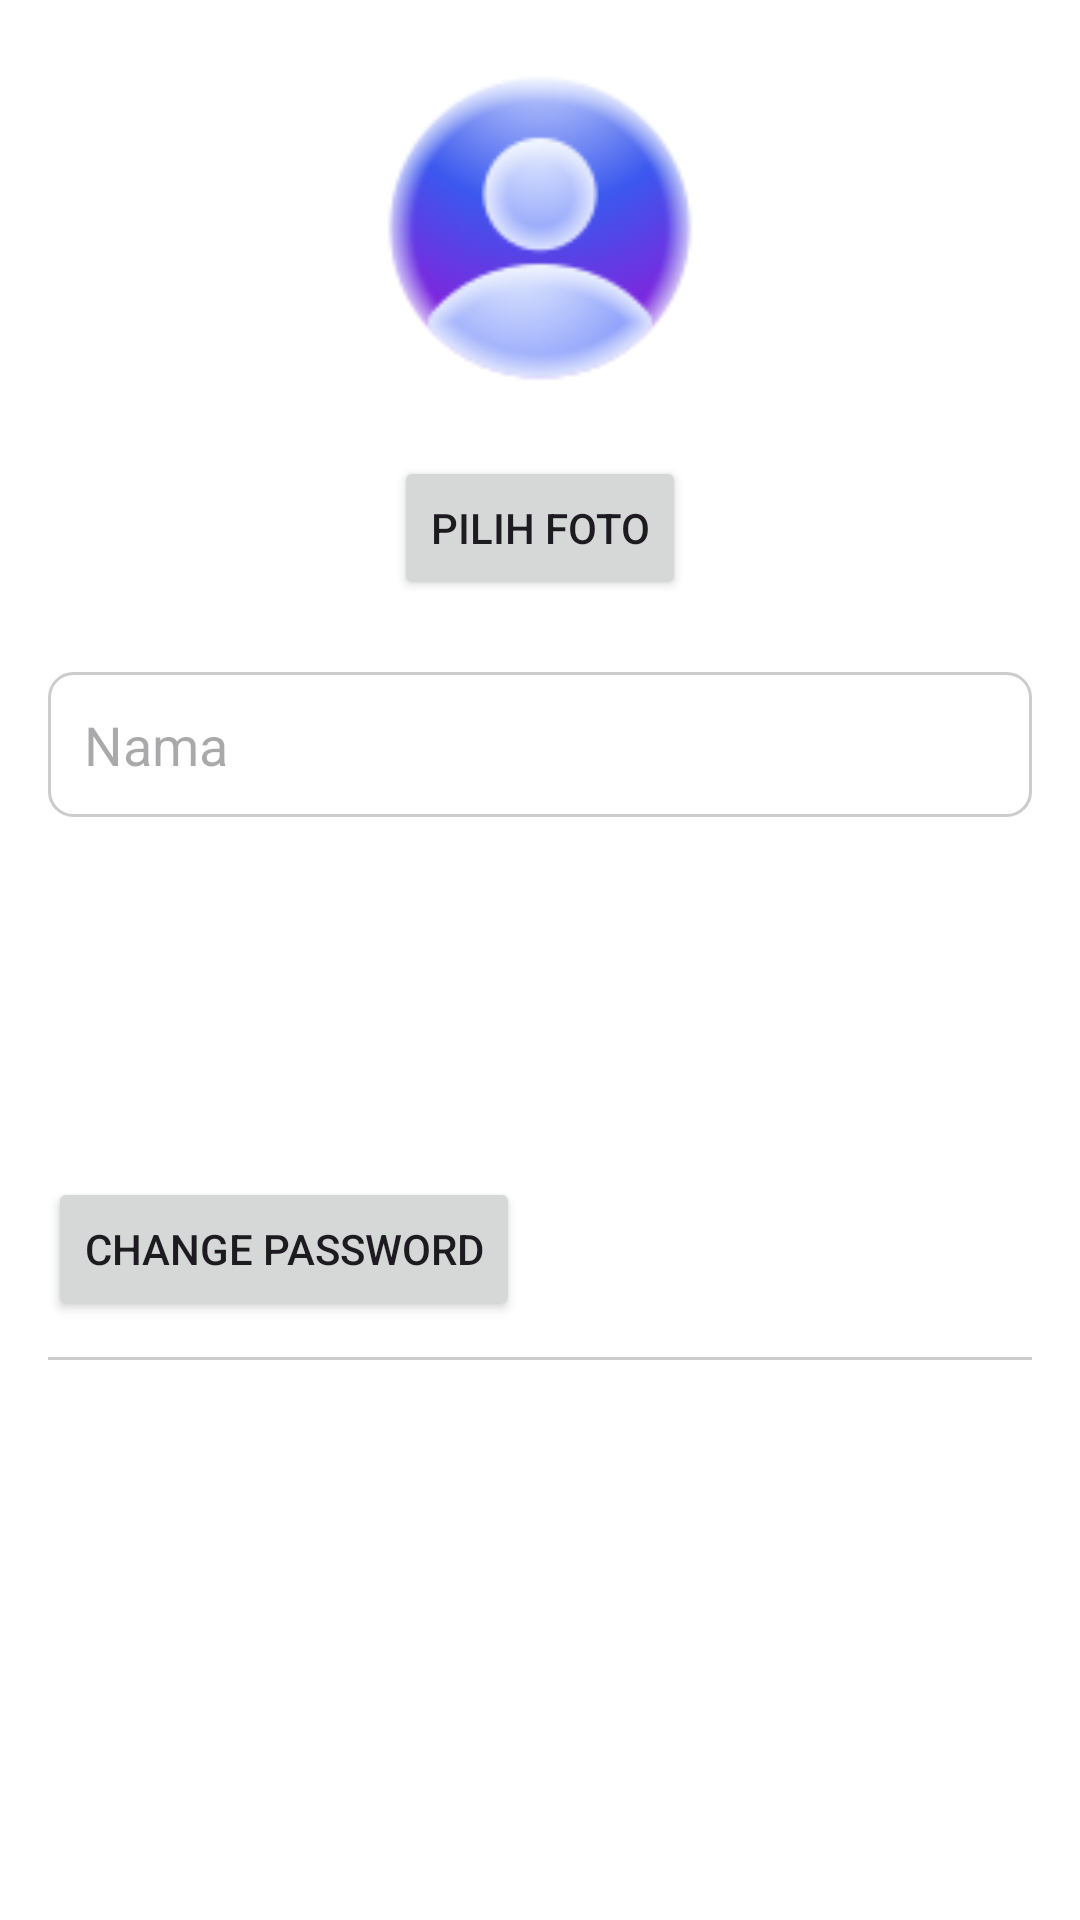

Icons on this 1080x1920 Android screen, each with the point to tap as point (x, y):
profil: point (540, 230)
